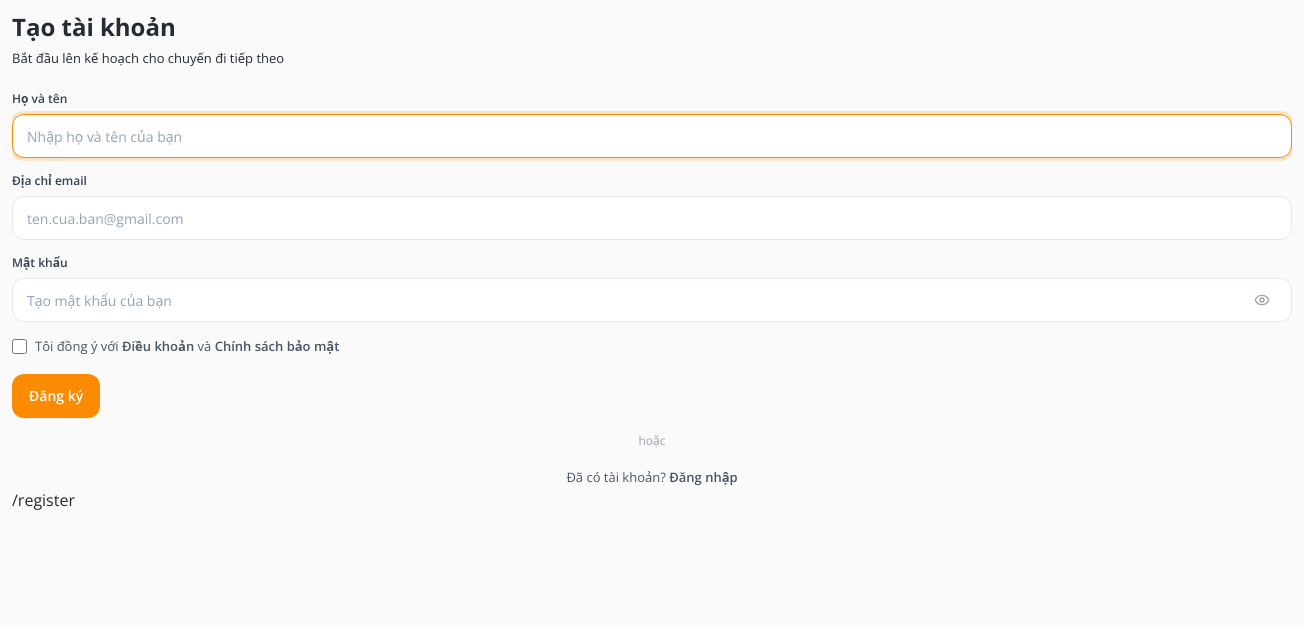
Màn Đăng ký › lỗi: bỏ trống họ tên và chưa đồng ý điều khoản → báo đủ 2 lỗi, không gọi API
This screenshot has width=1304, height=625.
Type "moi@gmail.com" into the field labelled "Địa chỉ email". click: (652, 218)
box: [12,196,1292,240]
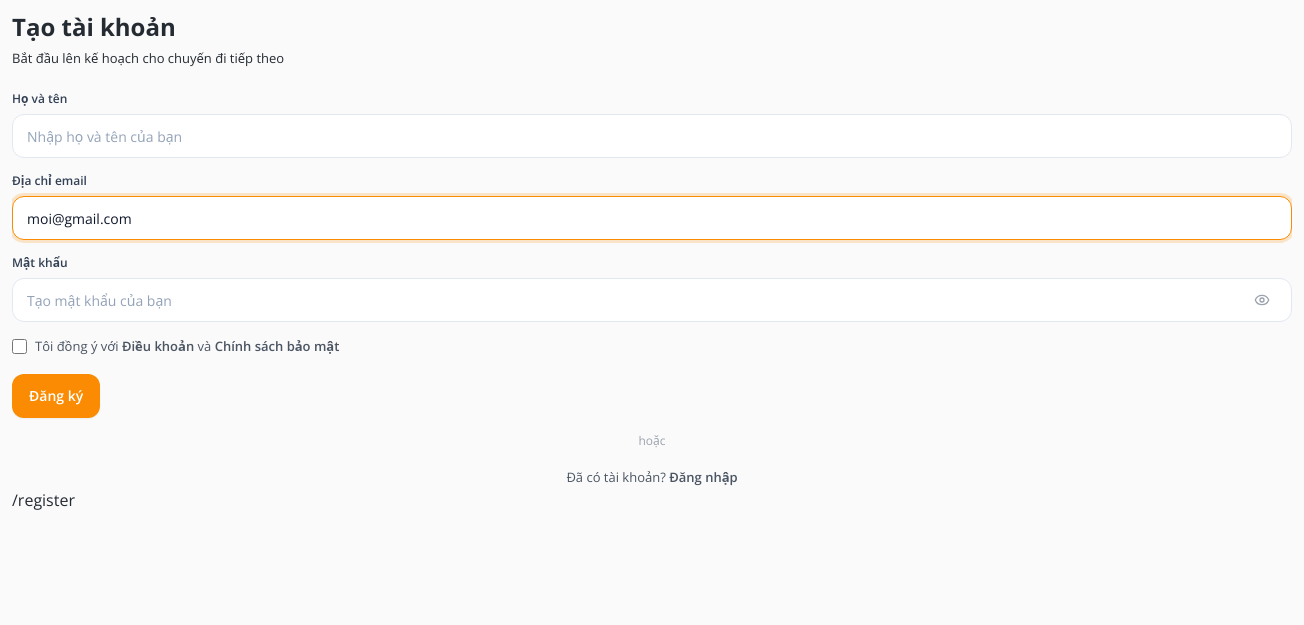
Type "MatKhau1" into the password field labelled "Mật khẩu". click: (652, 300)
box: [12,278,1292,322]
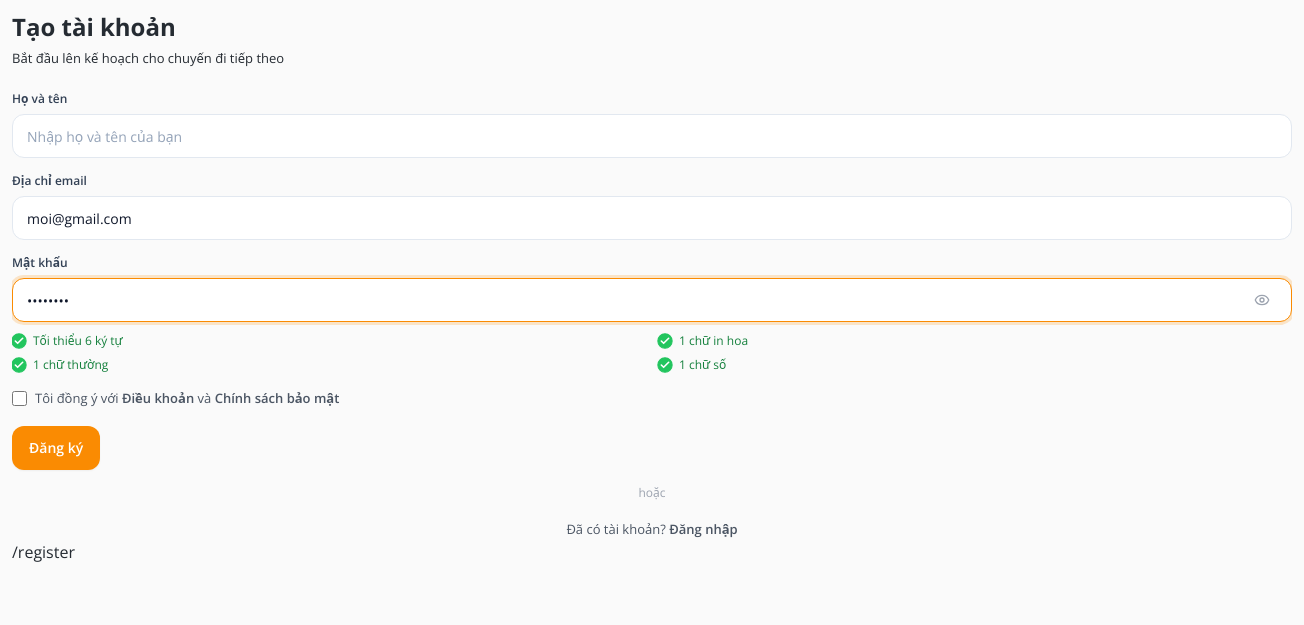
Click the button "Đăng ký". click: (56, 448)
box: [12,426,100,470]
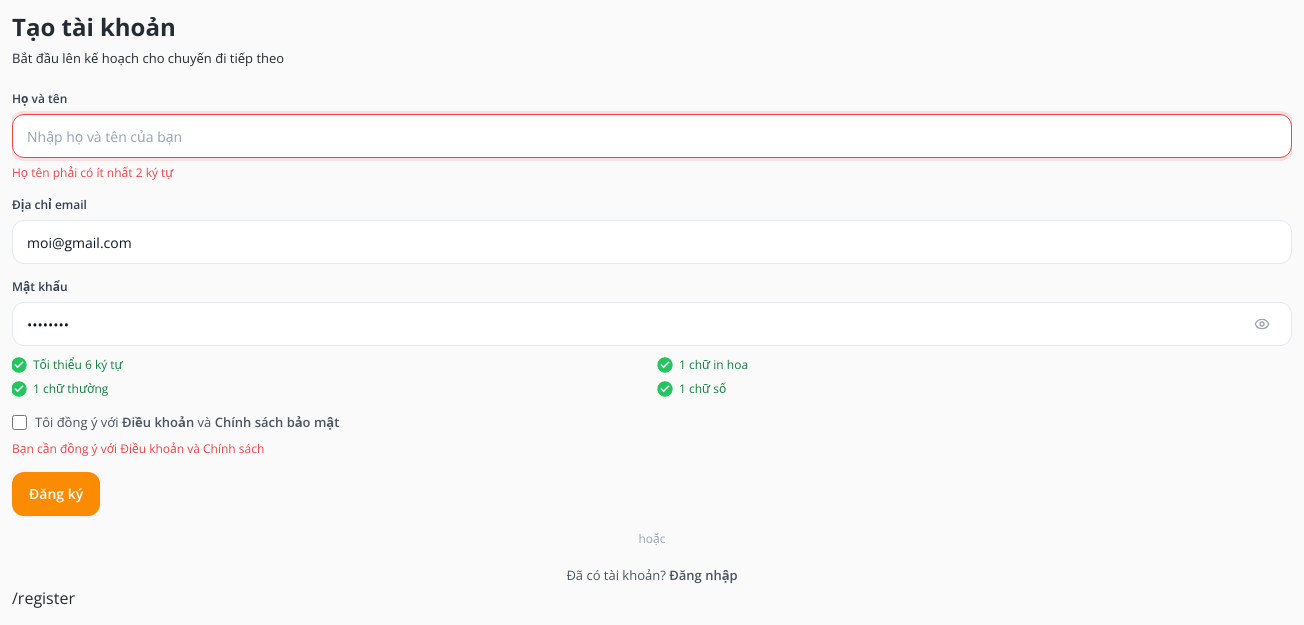
Check: the text "Họ tên phải có ít nhất 2 ký tự" is shown, box [12,164,173,181]
Check: the text "Bạn cần đồng ý với Điều khoản và Chính sách" is shown, box [12,440,264,457]
